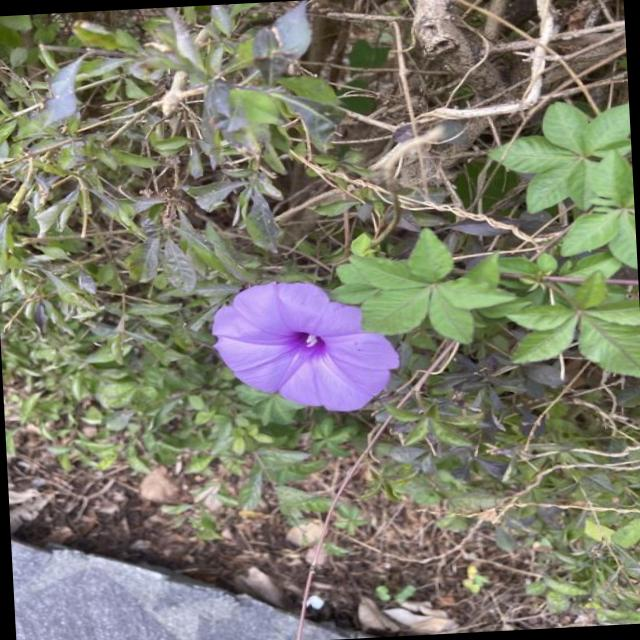ipomoea: (204, 272, 406, 422)
